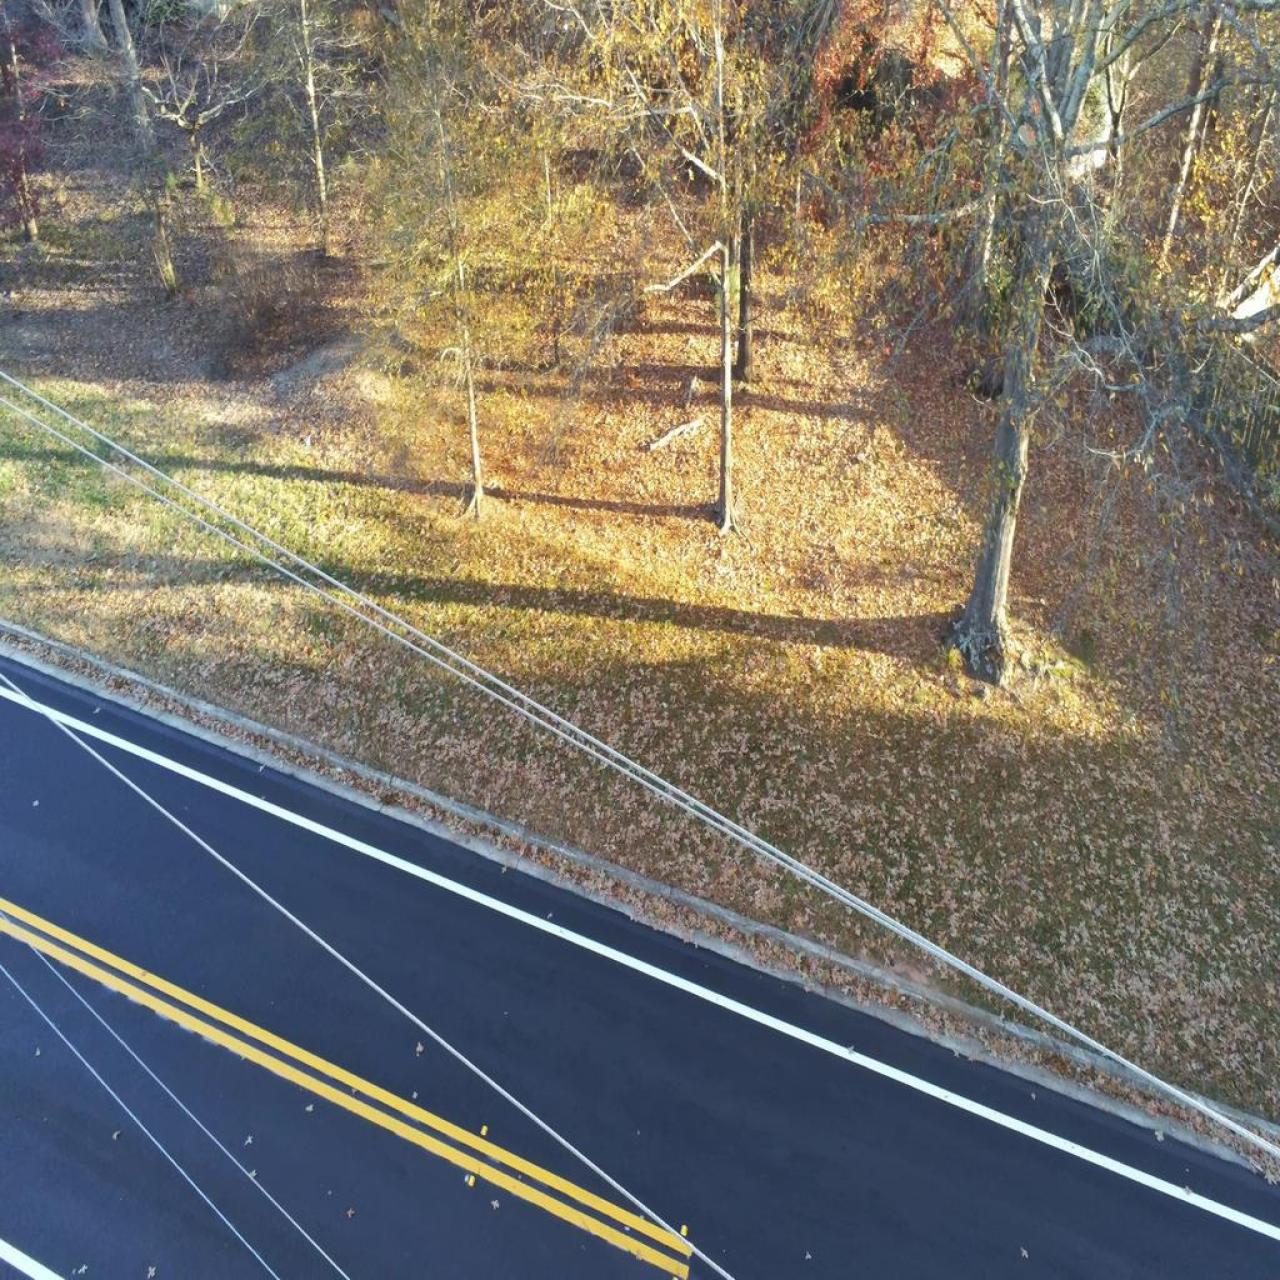cable: (0, 176, 341, 550), (1, 190, 341, 549), (0, 319, 196, 606), (0, 431, 94, 608), (0, 456, 75, 606)
